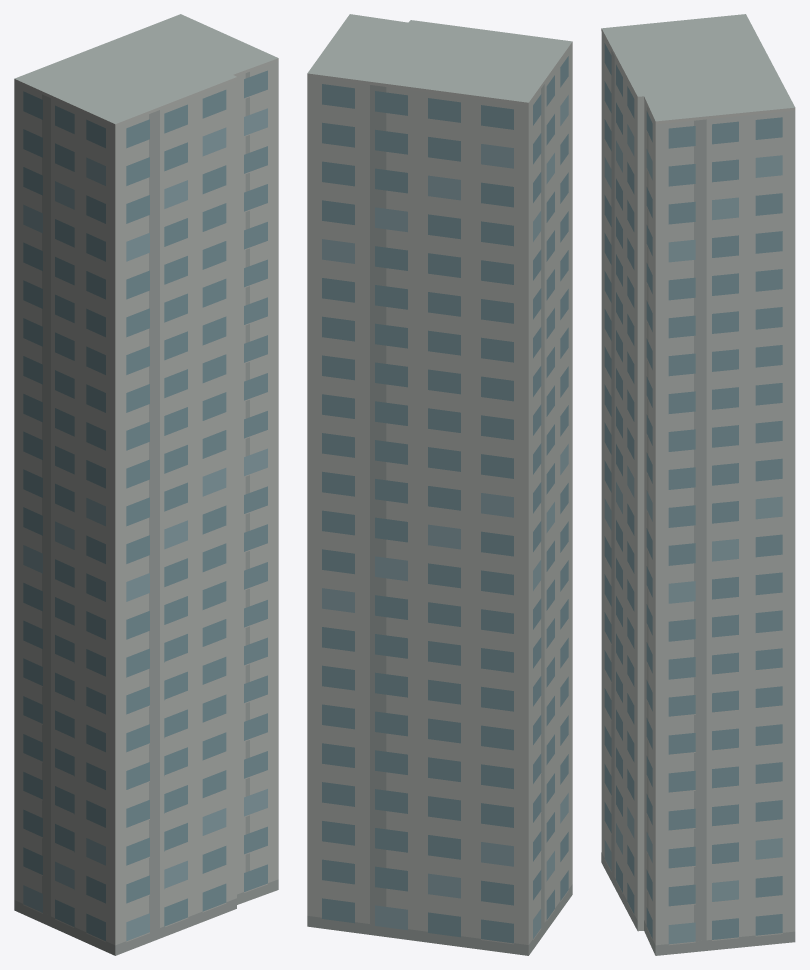
File: survey-upis-33037526.glb
The picture shows the model from 3 angles, left to right: view 1: azimuth 30°, elevation 25°; view 2: azimuth 150°, elevation 25°; view 3: azimuth 270°, elevation 25°; orthographic projection. The views are drawn at different scales.
Visible parts, largest first — view 1: survey-upis-33037526.tmp; view 2: survey-upis-33037526.tmp; view 3: survey-upis-33037526.tmp.
Boxes of the visible parts, x1=… form: survey-upis-33037526.tmp: x1=14, y1=14, x2=278, y2=955; survey-upis-33037526.tmp: x1=307, y1=14, x2=572, y2=955; survey-upis-33037526.tmp: x1=601, y1=14, x2=795, y2=955.
Size of the model in its own units: 18.54 by 67.1 by 14.14.
